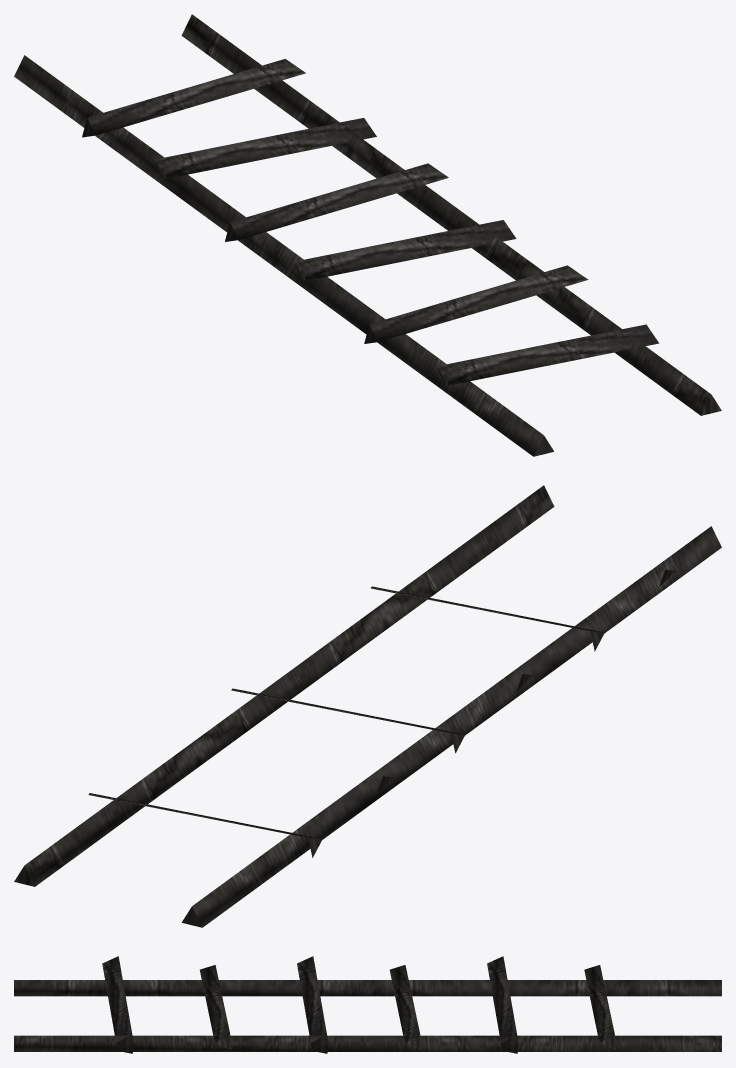
3 renders of one model, top to bottom at view 1: azimuth 30°, elevation 25°; view 2: azimuth 150°, elevation 25°; view 3: azimuth 270°, elevation 25°, orthographic. The views are drawn at different scales.
Parts seen in each view (by area): view 1: model_Object28; view 2: model_Object28; view 3: model_Object28.
Boxes of the visible parts, x1,y1,x2,y2 form: model_Object28: (14,14,721,456); model_Object28: (14,485,721,927); model_Object28: (14,956,721,1053).
Bounding box in the file's own units: 0.9026 × 0.1514 × 3.63.
1 material, 1 textured.
